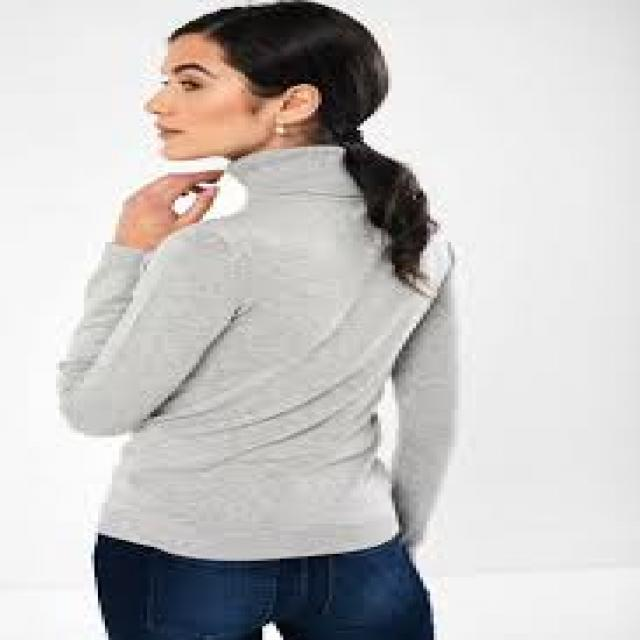plain: (16, 157, 536, 566)
